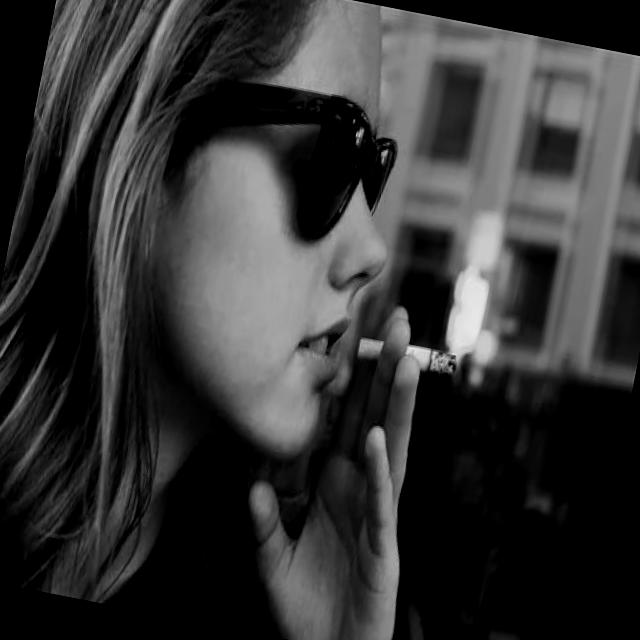cigarette: (350, 324, 465, 382)
